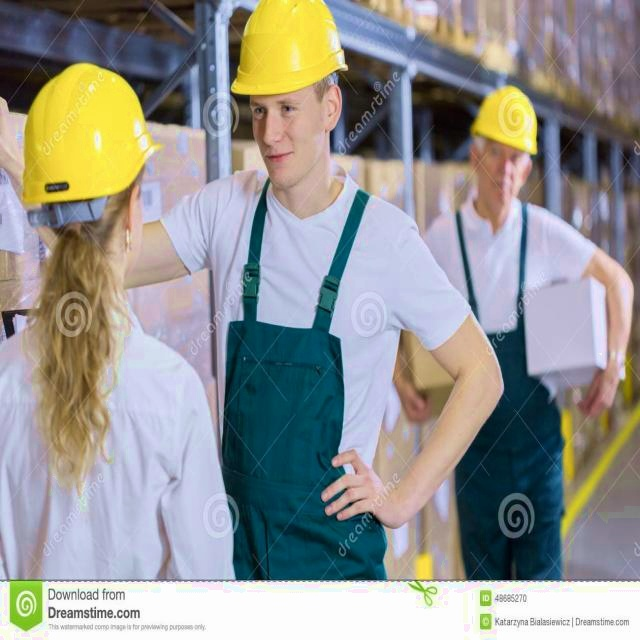Con_Casco: (20, 64, 149, 286), (230, 0, 351, 182)
Sin_Chaleco: (212, 172, 404, 560), (0, 308, 232, 569)
